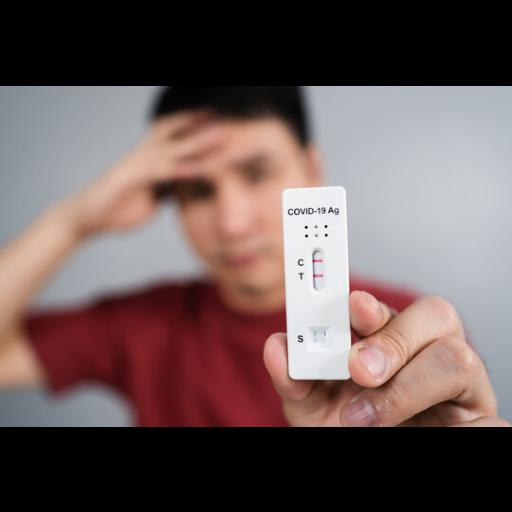Pos: (282, 186, 350, 378)
